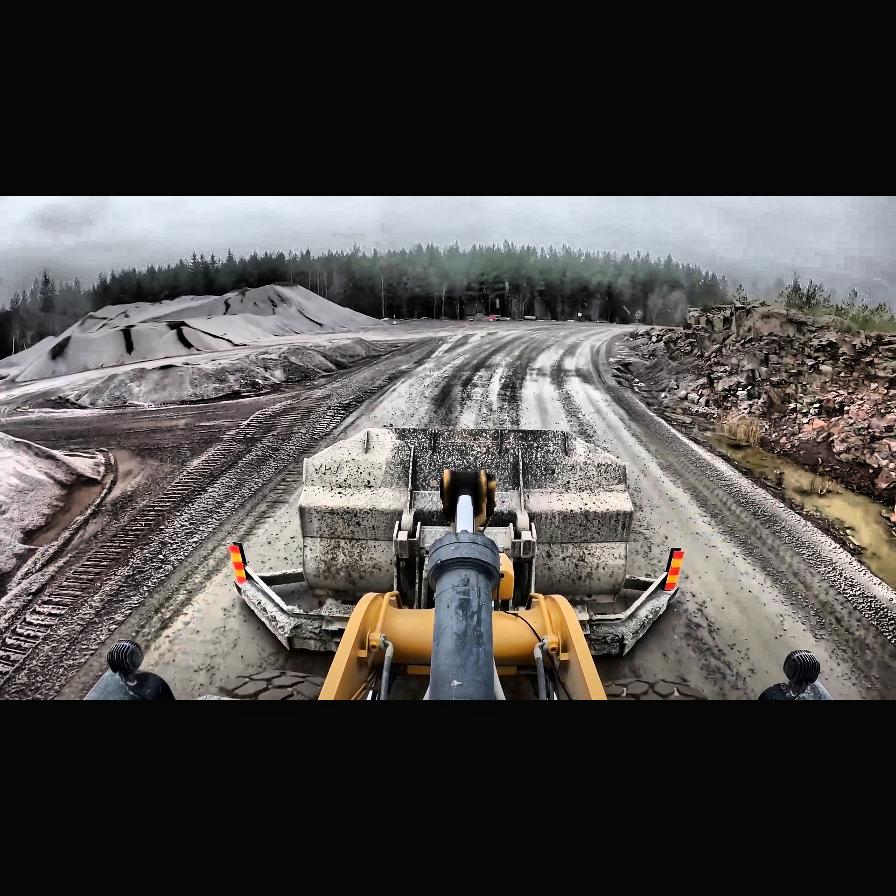anchor: (442, 467, 494, 525)
pile of gravel: (1, 282, 392, 388), (1, 422, 116, 590)
